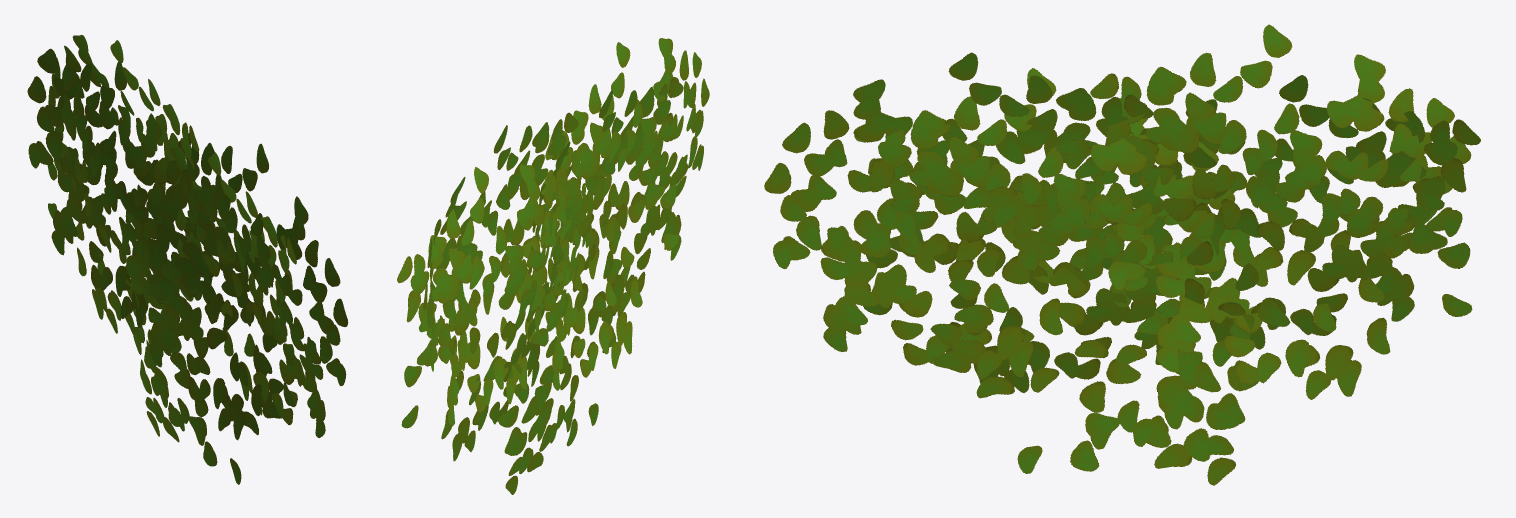
File: SM_Vine_01.fbx
3 renders of one model, left to right at view 1: azimuth 30°, elevation 25°; view 2: azimuth 150°, elevation 25°; view 3: azimuth 270°, elevation 25°, orthographic. The views are drawn at different scales.
Visible parts, largest first — view 1: SM_Vine_01_LOD0; view 2: SM_Vine_01_LOD0; view 3: SM_Vine_01_LOD0.
Boxes of the visible parts, x1,y1,x2,y2 form: SM_Vine_01_LOD0: (27,35,348,484); SM_Vine_01_LOD0: (397,38,709,494); SM_Vine_01_LOD0: (764,24,1480,485).
Bounding box in the file's own units: 29.07 × 396 × 277.
